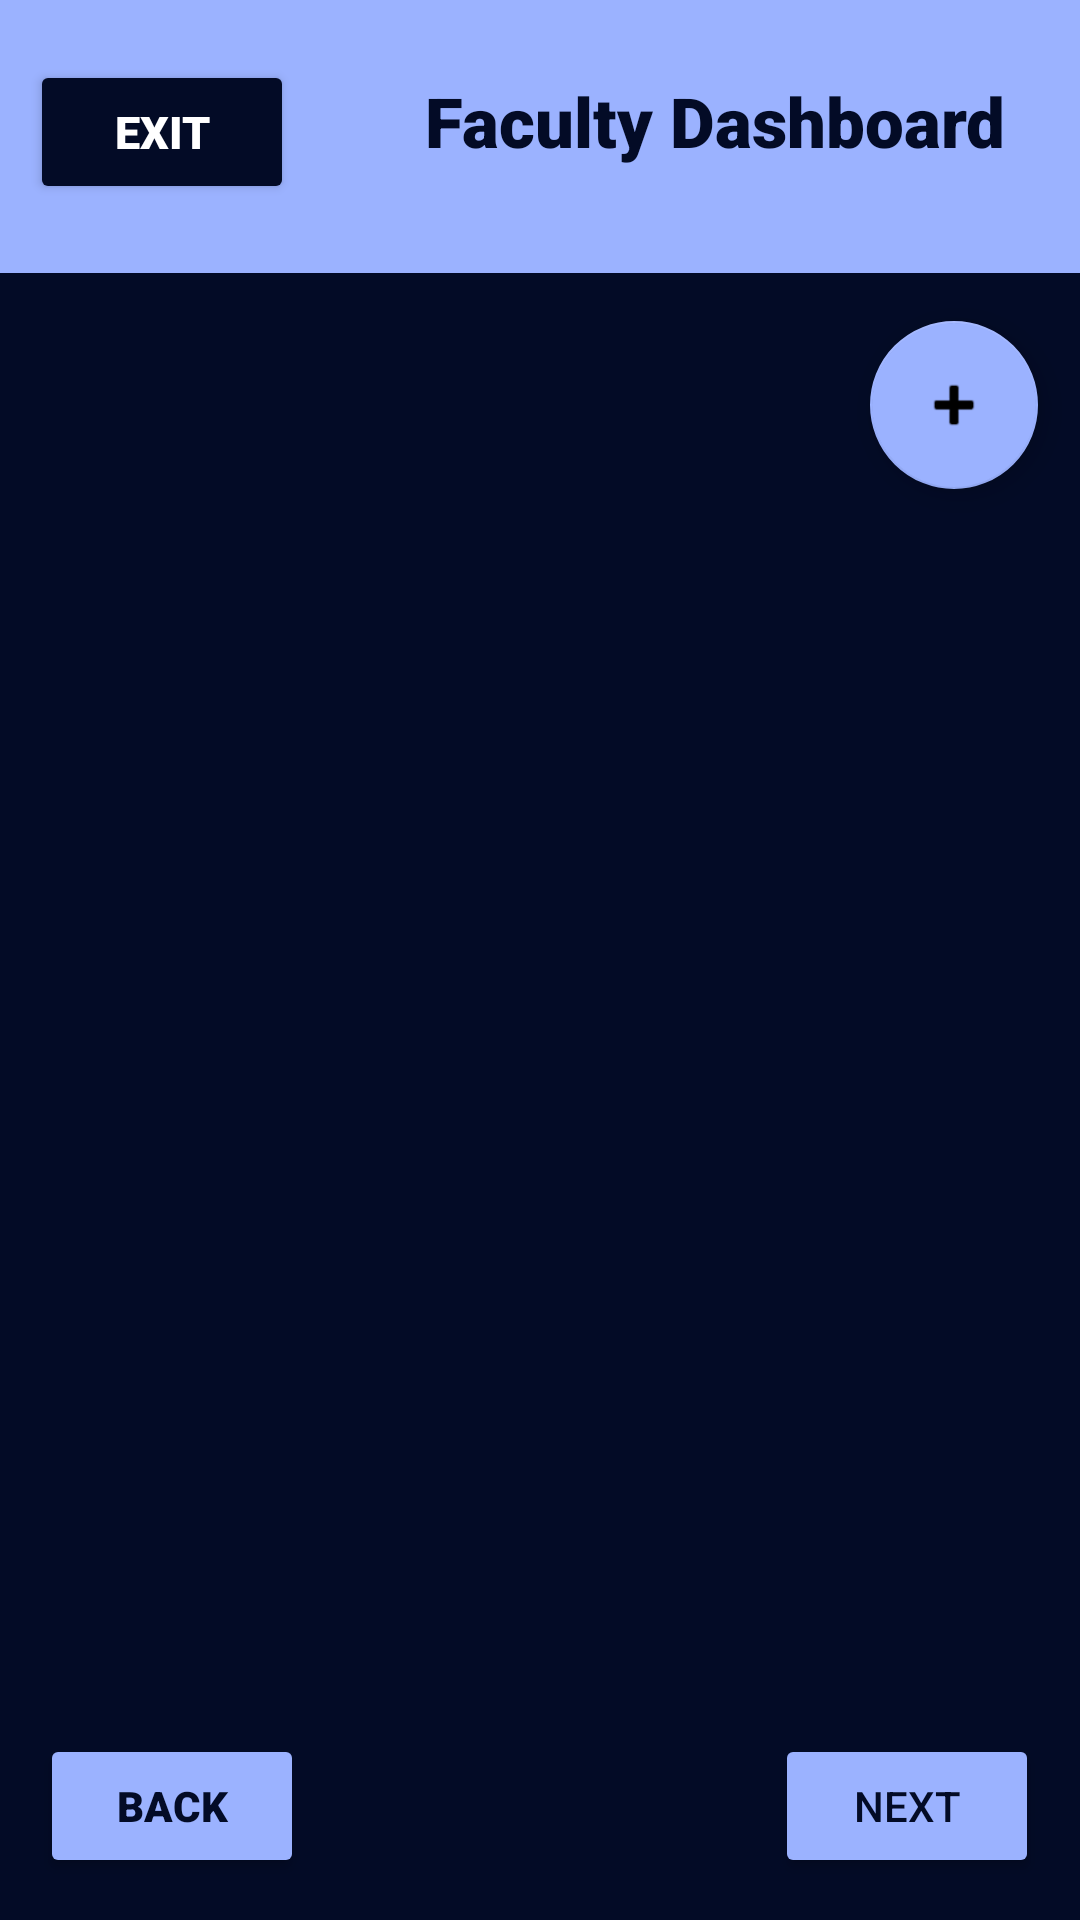

Icon click points for this 1080w x 1920h phone screenshot, format (x=x, y=y):
add: (x=954, y=405)
